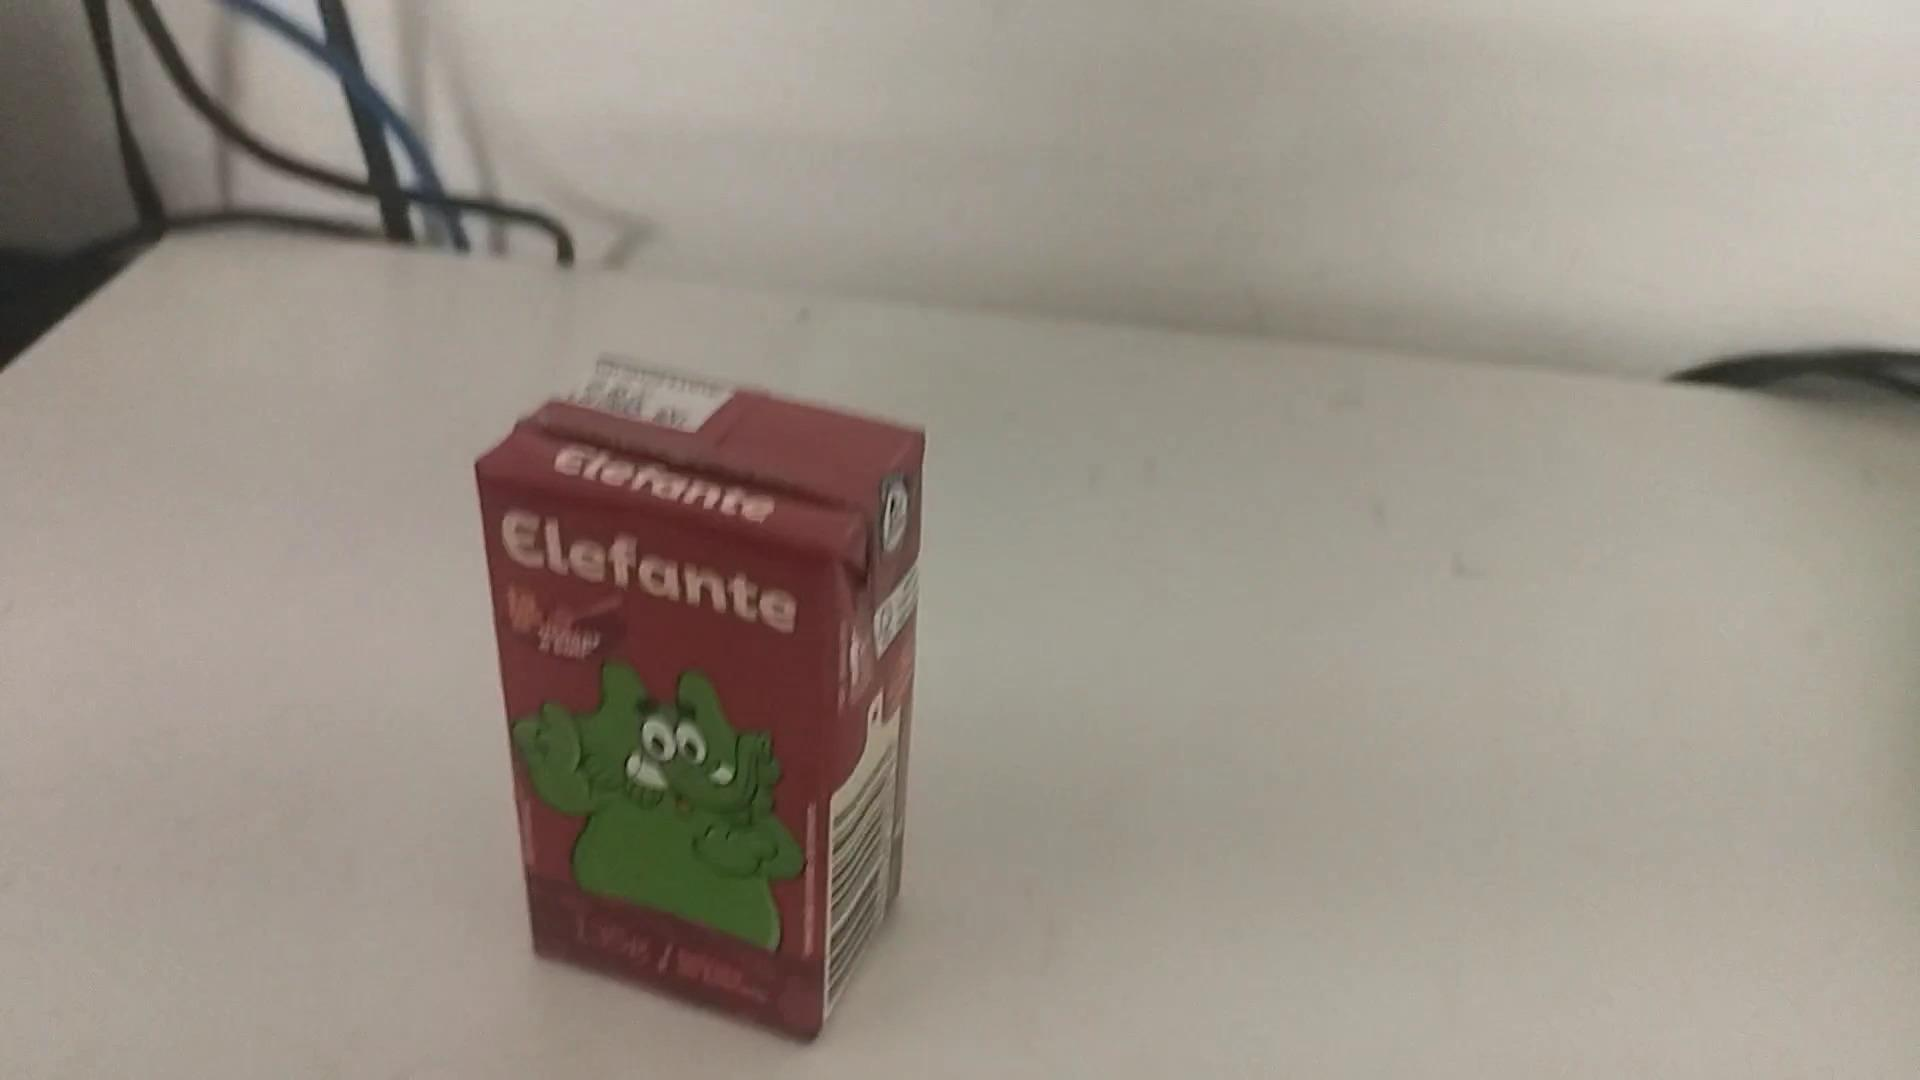tomate: (467, 342, 939, 1040)
